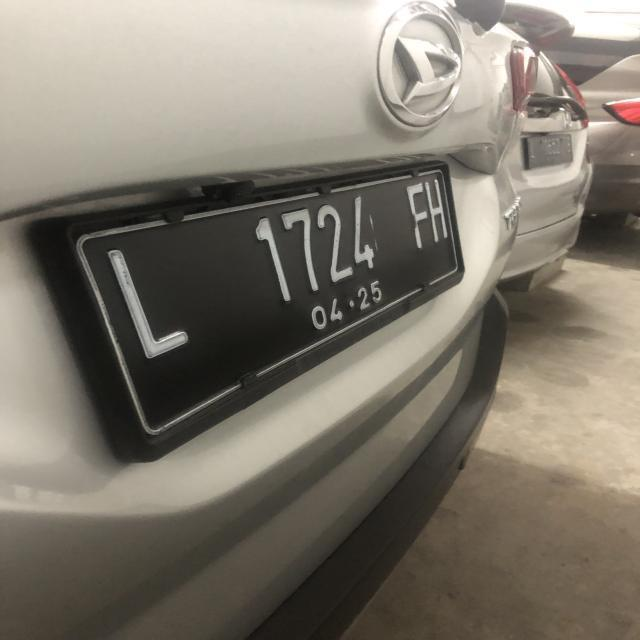1: (242, 201, 286, 318)
2: (321, 196, 355, 292)
4: (346, 184, 380, 281)
7: (288, 190, 322, 302)
F: (394, 178, 428, 260)
H: (430, 169, 458, 246)
L: (98, 239, 194, 370)
